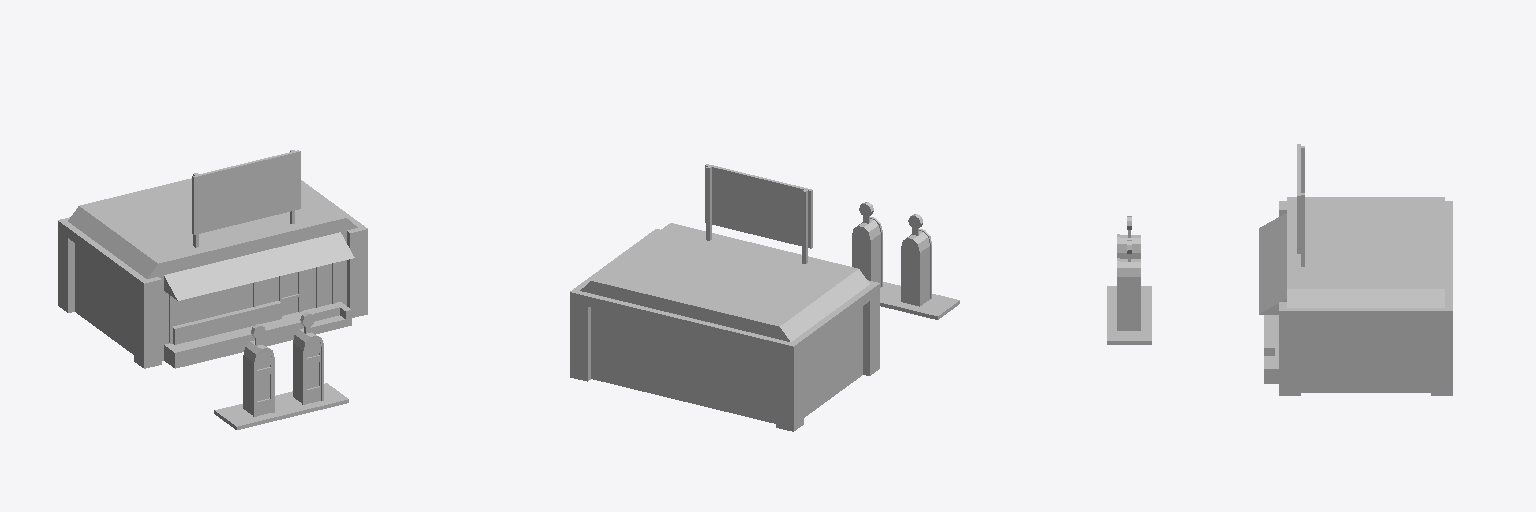
File: Gas station.OBJ
3 renders of one model, left to right at view 1: azimuth 30°, elevation 25°; view 2: azimuth 150°, elevation 25°; view 3: azimuth 270°, elevation 25°, orthographic.
Visible parts, largest first — view 1: Group50243, Group821, Group4500, Group52726, Group5425, Group5855, Group19702, Group62254, Group3421, Group55859, Group59758, Group59416 (+2 smaller); view 2: Group50243, Group52726, Group821, Group4500, Group59758, Group3421, Group2031; view 3: Group50243, Group52726, Group821, Group5425, Group59758, Group3421, Group59416.
Boxes of the visible parts, x1,y1,x2,y2 form: Group50243: [68, 178, 357, 278]; Group821: [58, 180, 367, 368]; Group4500: [192, 150, 300, 234]; Group52726: [75, 231, 346, 360]; Group5425: [164, 232, 354, 300]; Group5855: [173, 264, 331, 323]; Group19702: [164, 302, 340, 368]; Group62254: [173, 301, 281, 344]; Group3421: [214, 383, 348, 429]; Group55859: [257, 347, 320, 415]; Group59758: [243, 328, 314, 414]; Group59416: [282, 302, 351, 340]; Group50243: [580, 223, 869, 341]; Group52726: [591, 306, 862, 423]; Group821: [570, 229, 879, 431]; Group4500: [705, 164, 812, 248]; Group59758: [852, 219, 929, 306]; Group3421: [880, 282, 959, 319]; Group2031: [706, 166, 807, 263]; Group50243: [1287, 197, 1444, 307]; Group52726: [1301, 321, 1430, 392]; Group821: [1279, 201, 1452, 395]; Group5425: [1259, 213, 1286, 314]; Group59758: [1120, 235, 1140, 330]; Group3421: [1107, 286, 1151, 344]; Group59416: [1264, 338, 1278, 383].
Size of the model in its own units: 0.4672 by 0.3404 by 0.6237.